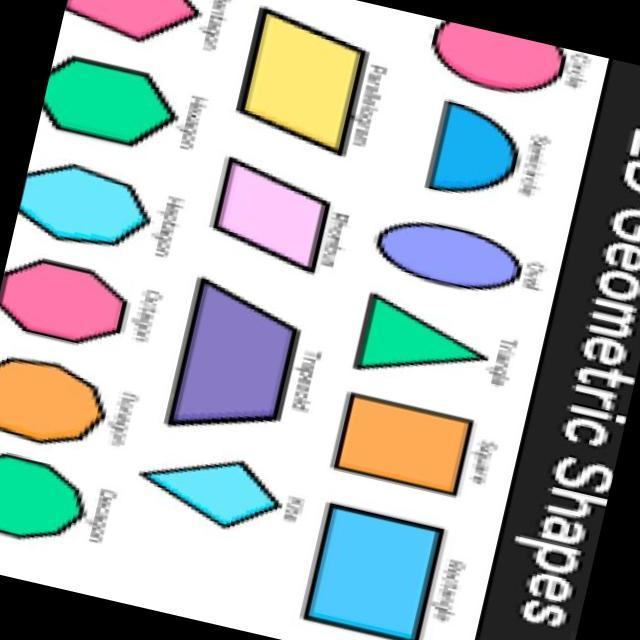circle: (436, 3, 592, 116), (376, 196, 524, 310)
square: (313, 488, 459, 640), (328, 388, 495, 513)
triangle: (348, 288, 507, 401)
